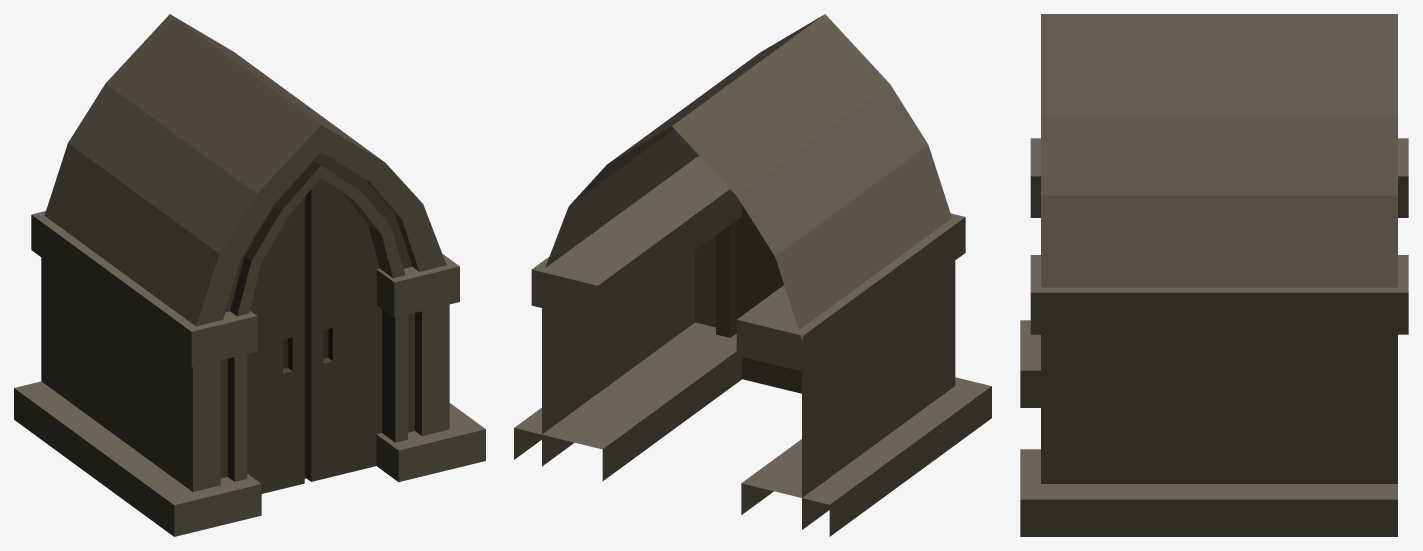
Rendered from SF_Bld_Undead_Door_01.fbx.
3 renders of one model, left to right at view 1: azimuth 30°, elevation 25°; view 2: azimuth 150°, elevation 25°; view 3: azimuth 270°, elevation 25°, orthographic. The views are drawn at different scales.
Parts seen in each view (by area): view 1: SF_Bld_Undead_Door_01; view 2: SF_Bld_Undead_Door_01; view 3: SF_Bld_Undead_Door_01.
Boxes of the visible parts, left/top/right/bottom form: SF_Bld_Undead_Door_01: left=14, top=14, right=485, bottom=536; SF_Bld_Undead_Door_01: left=514, top=14, right=991, bottom=536; SF_Bld_Undead_Door_01: left=1020, top=14, right=1408, bottom=536.
Bounding box in the file's own units: 4.66 × 5.25 × 4.26.
